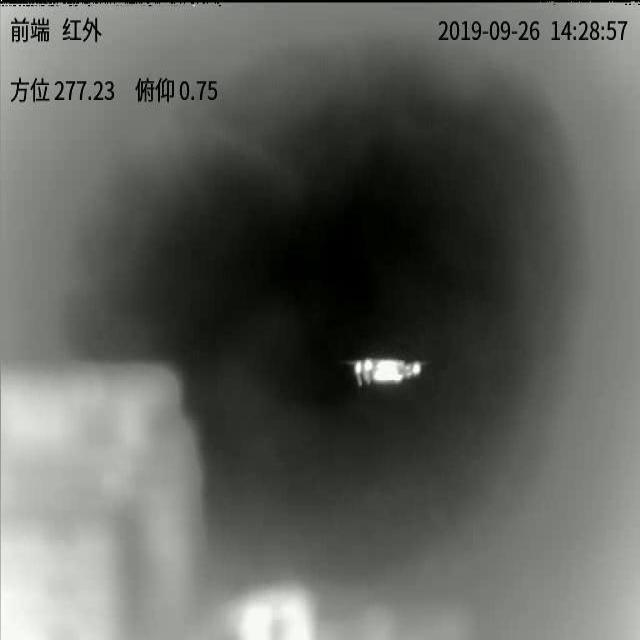drone: (345, 357, 429, 387)
